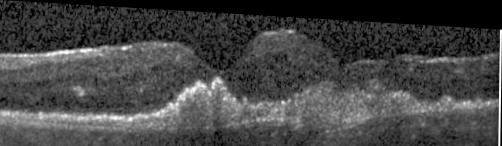subretinal_hyperreflective_material: (90, 74, 498, 128)
